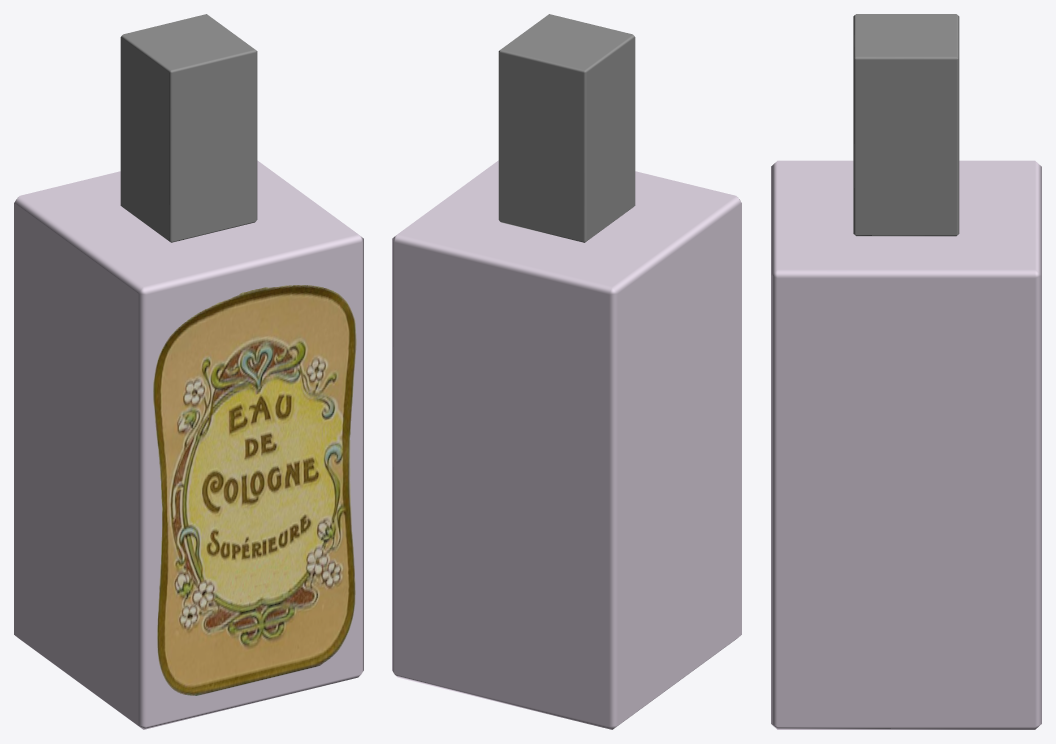
Rendered from Cologne_Bottle.fbx.
The picture shows the model from 3 angles, left to right: view 1: azimuth 30°, elevation 25°; view 2: azimuth 150°, elevation 25°; view 3: azimuth 270°, elevation 25°; orthographic projection. The views are drawn at different scales.
Visible parts, largest first — view 1: polySurface2, polySurface3, Cap, polySurface1; view 2: polySurface2, Cap; view 3: polySurface2, Cap.
Part boxes in pixels (x1,y1,x2,y2): polySurface2: (14, 160, 363, 729); polySurface3: (153, 285, 356, 695); Cap: (120, 14, 257, 242); polySurface1: (150, 250, 357, 718); polySurface2: (392, 160, 741, 729); Cap: (498, 14, 635, 242); polySurface2: (771, 160, 1041, 729); Cap: (853, 14, 959, 236).
Size of the model in its own units: 0.08 by 0.2085 by 0.0802.
Materials: 3 (1 with a texture image).
